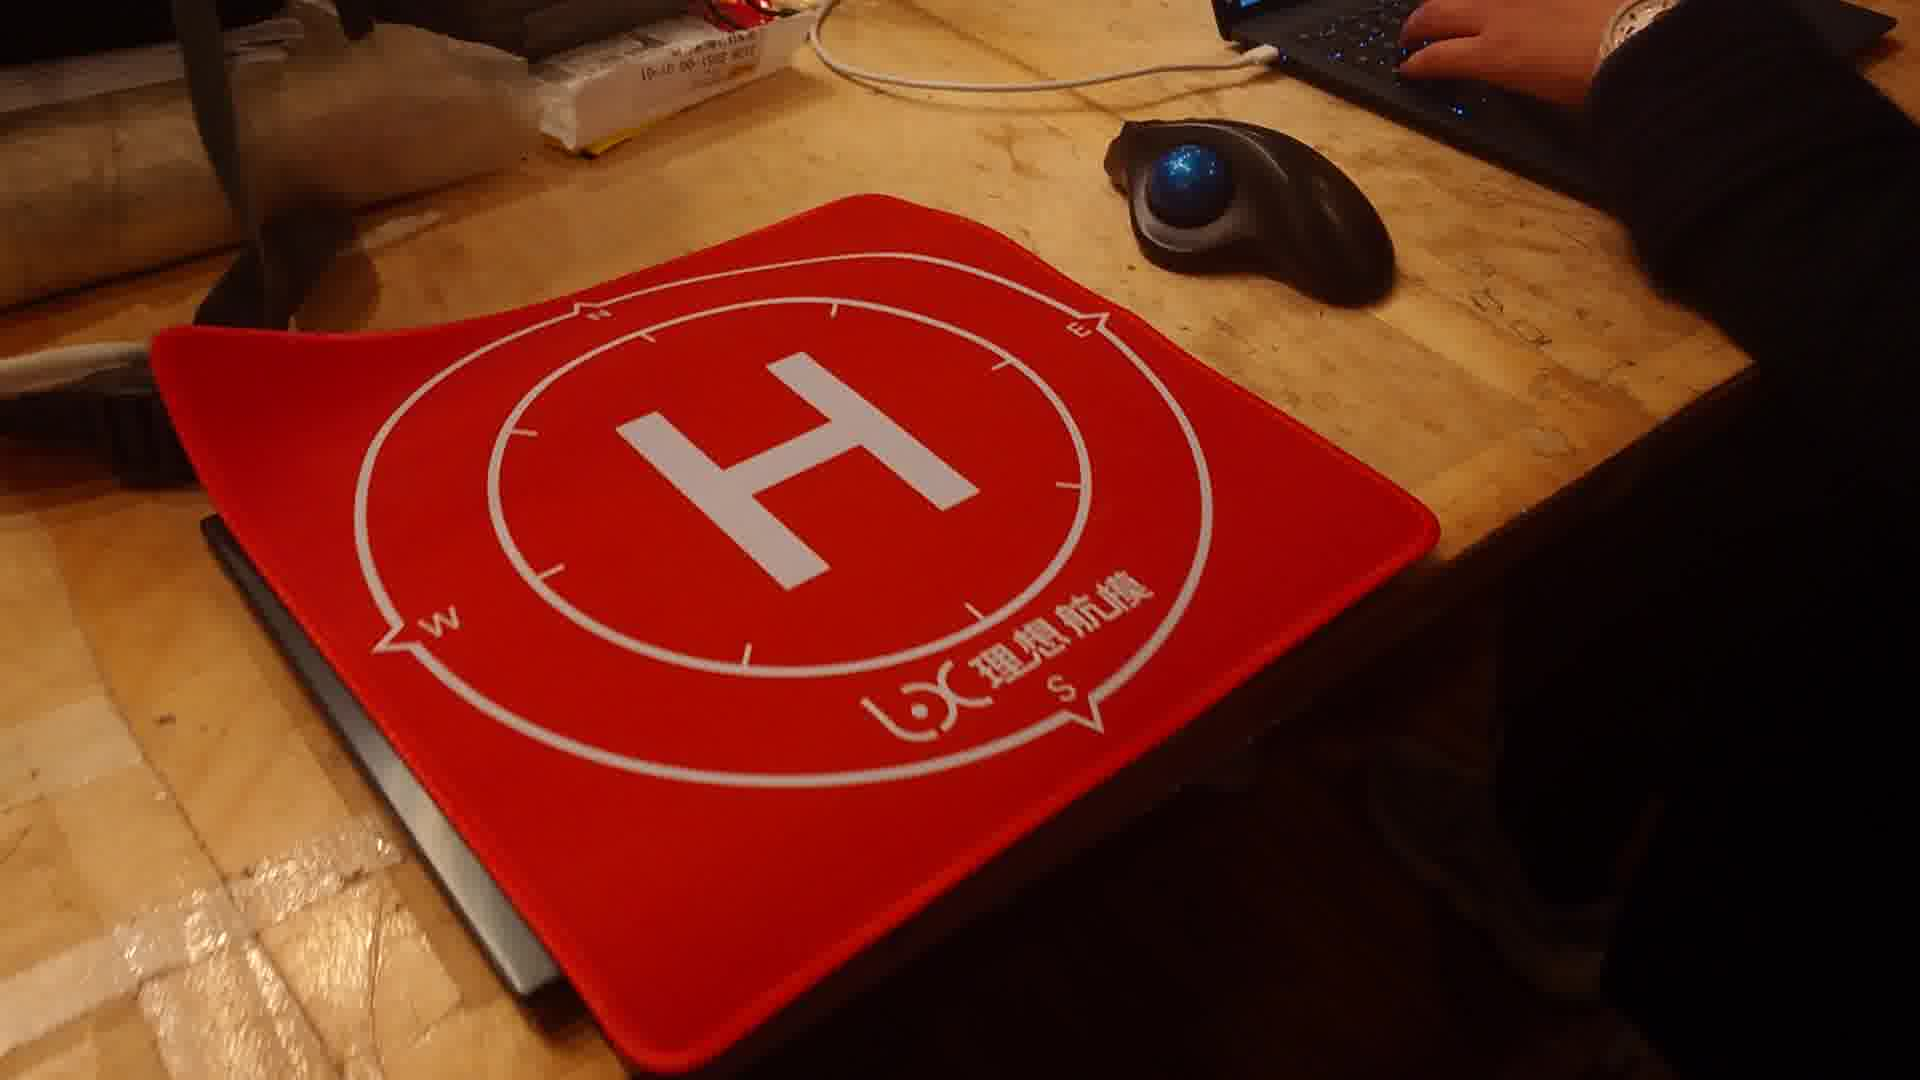H: (617, 352, 986, 589)
